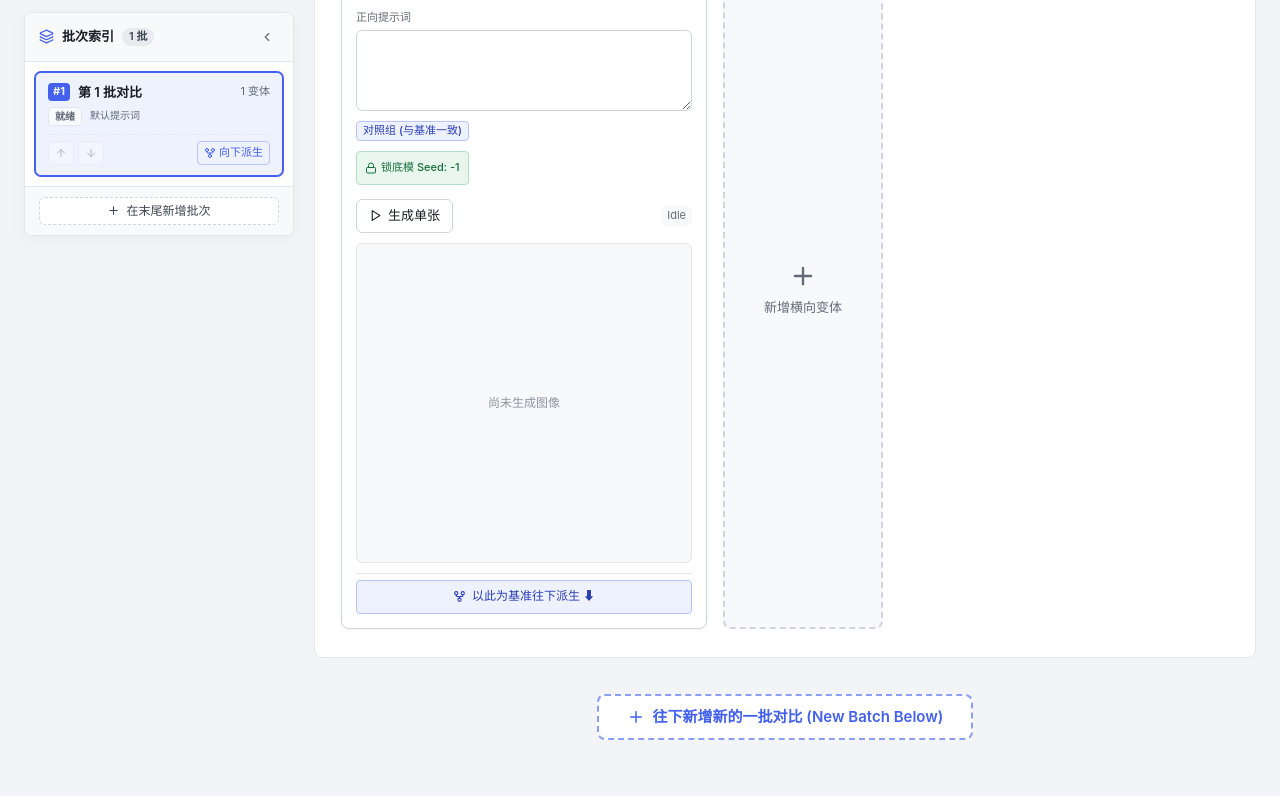
it: CompareStudio › allows collapsing and expanding sidebar
(page scrolled)
Click the button "往下新增新的一批对比 (New Batch Below)" at (785, 717), box [596,694,973,740]
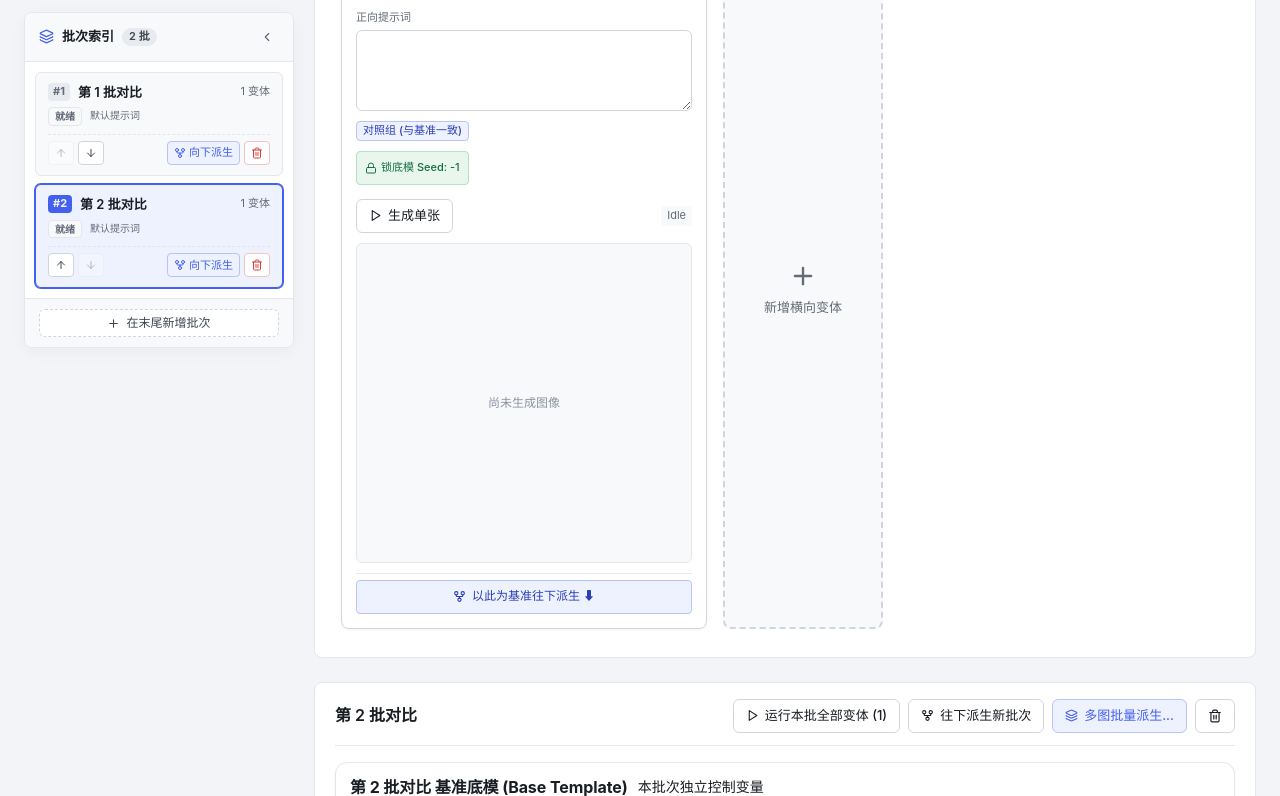
Click the button named "折叠批次索引" at (267, 37), box [255,25,279,49]
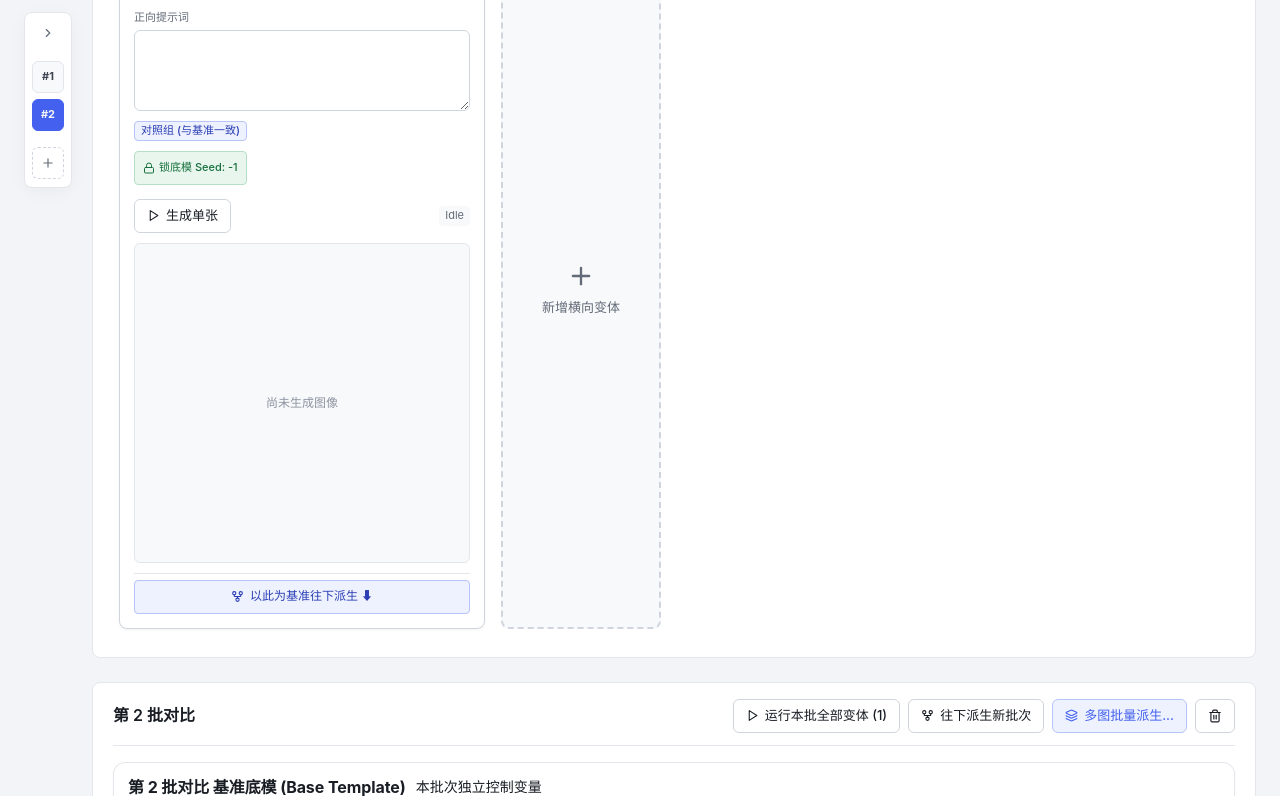
Expected: the button named "展开批次索引" is shown
Click the button named "展开批次索引" at (48, 33), box [36,21,60,45]
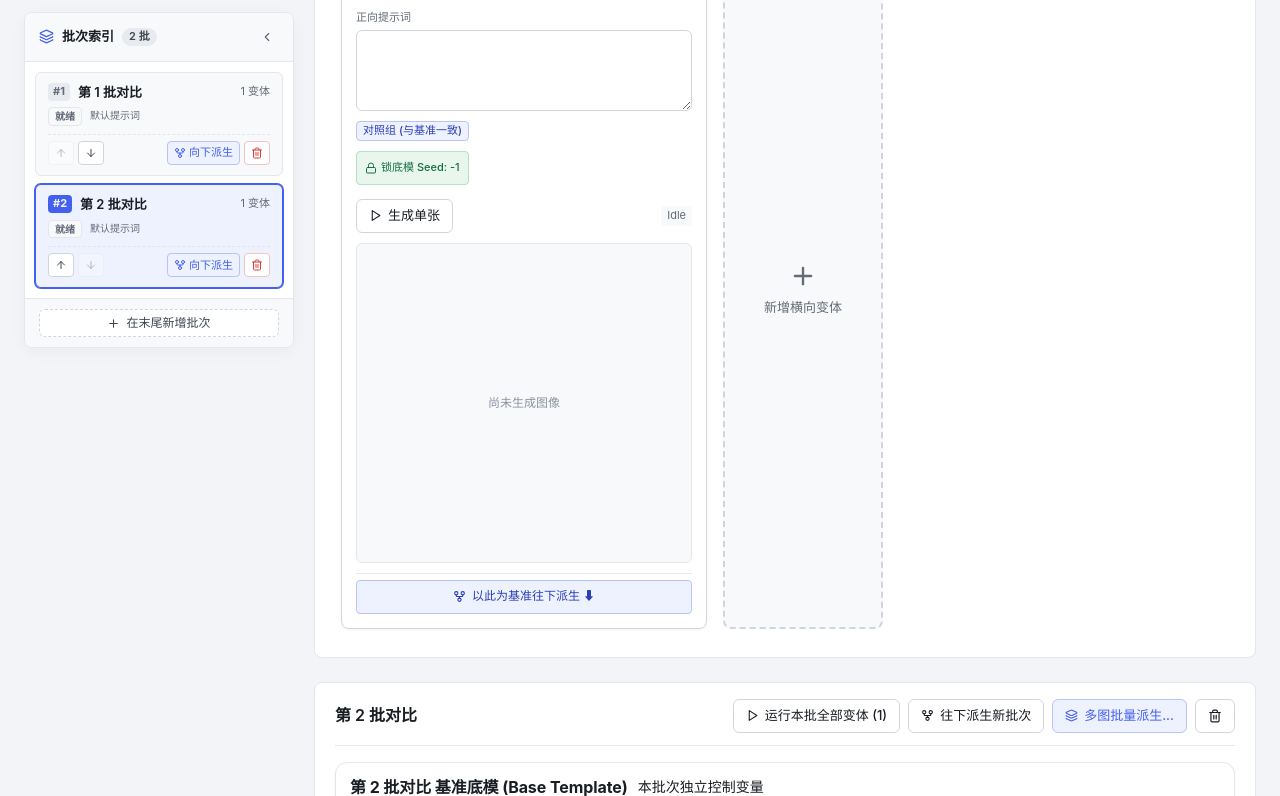
Expected: the text "批次索引" is shown, [62,28,114,46]
